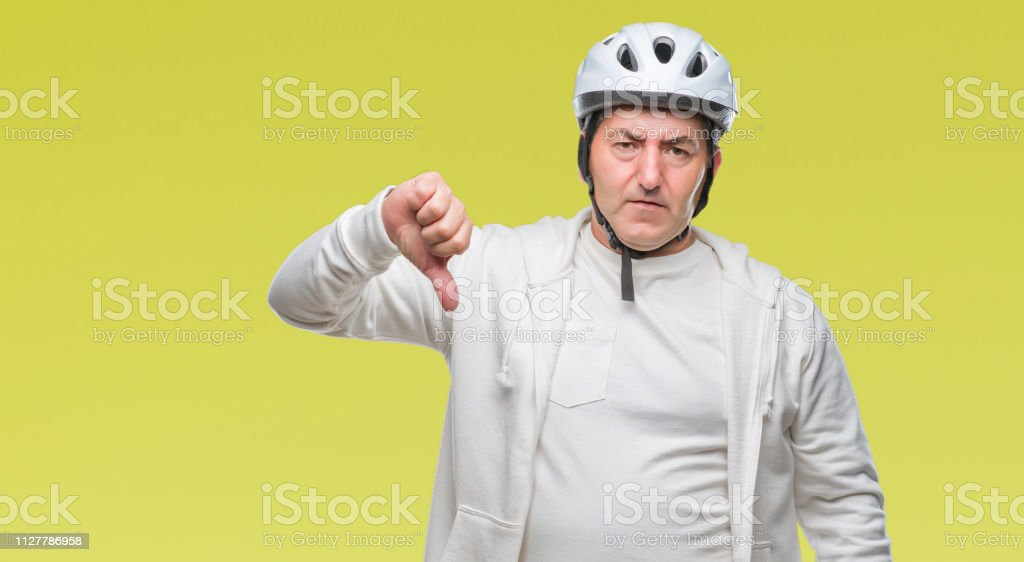helmet: (572, 23, 739, 252)
